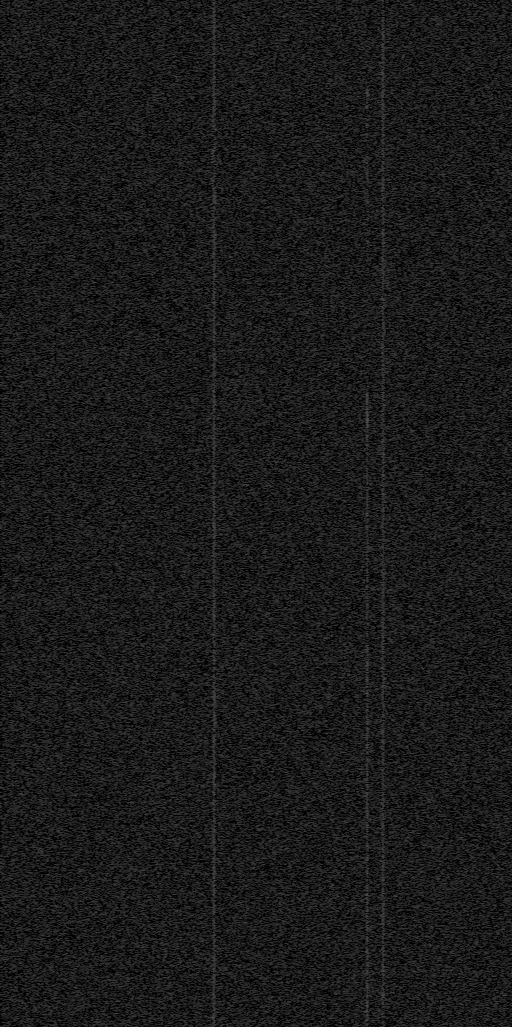wv_lsb: (365, 589, 370, 877), (365, 489, 370, 588), (365, 392, 370, 488), (365, 82, 370, 149), (365, 934, 370, 999), (365, 878, 370, 933), (365, 287, 369, 352), (365, 245, 369, 286), (365, 1000, 370, 1027), (365, 188, 369, 221), (365, 150, 370, 171), (365, 172, 370, 187), (365, 227, 369, 244), (365, 374, 369, 391), (365, 362, 369, 369), (366, 353, 369, 361)
wv_wbfm: (379, 0, 387, 1027), (210, 128, 218, 1027), (210, 0, 218, 127)
